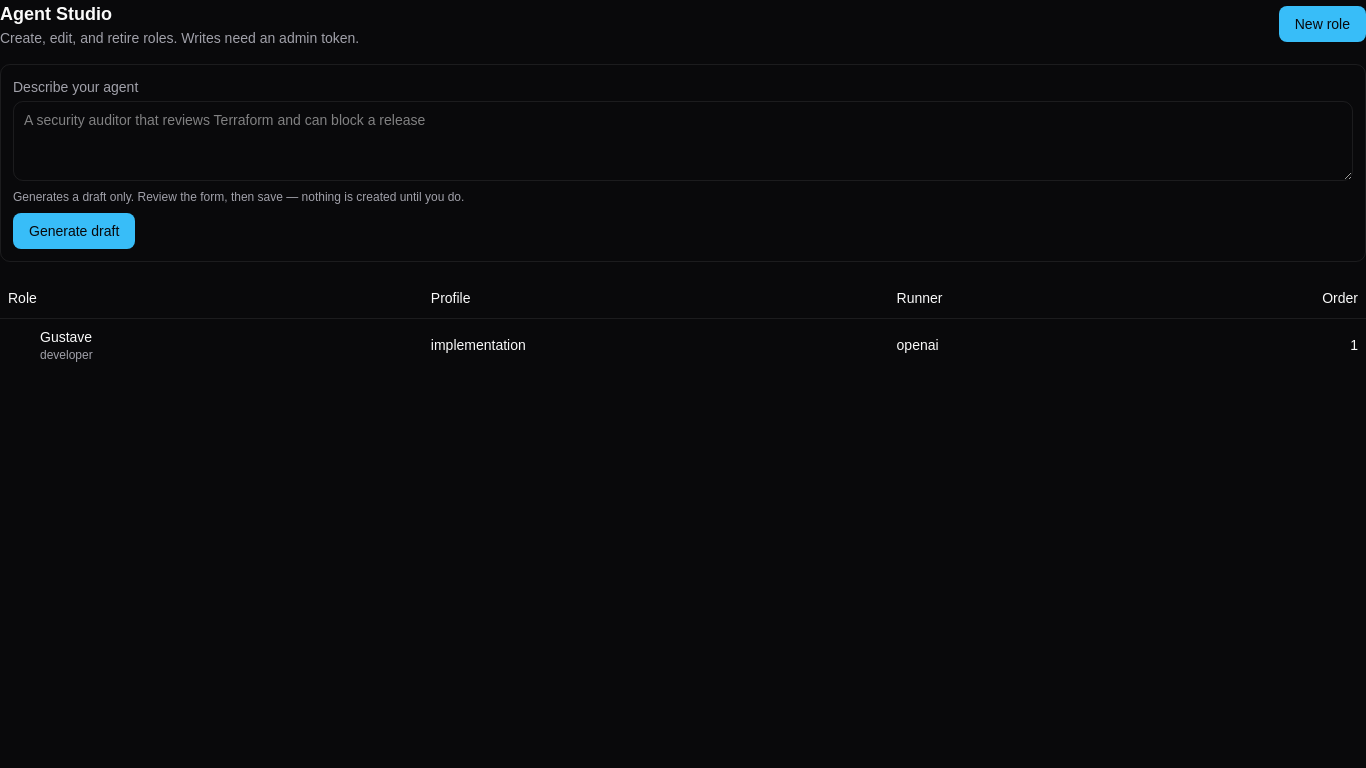
AgentStudioView › refuses to save an empty new role
This screenshot has width=1366, height=768.
Click the button with test id "studio-new": coordinates (1322, 24) x1=1279 y1=6 x2=1365 y2=42
(page scrolled)
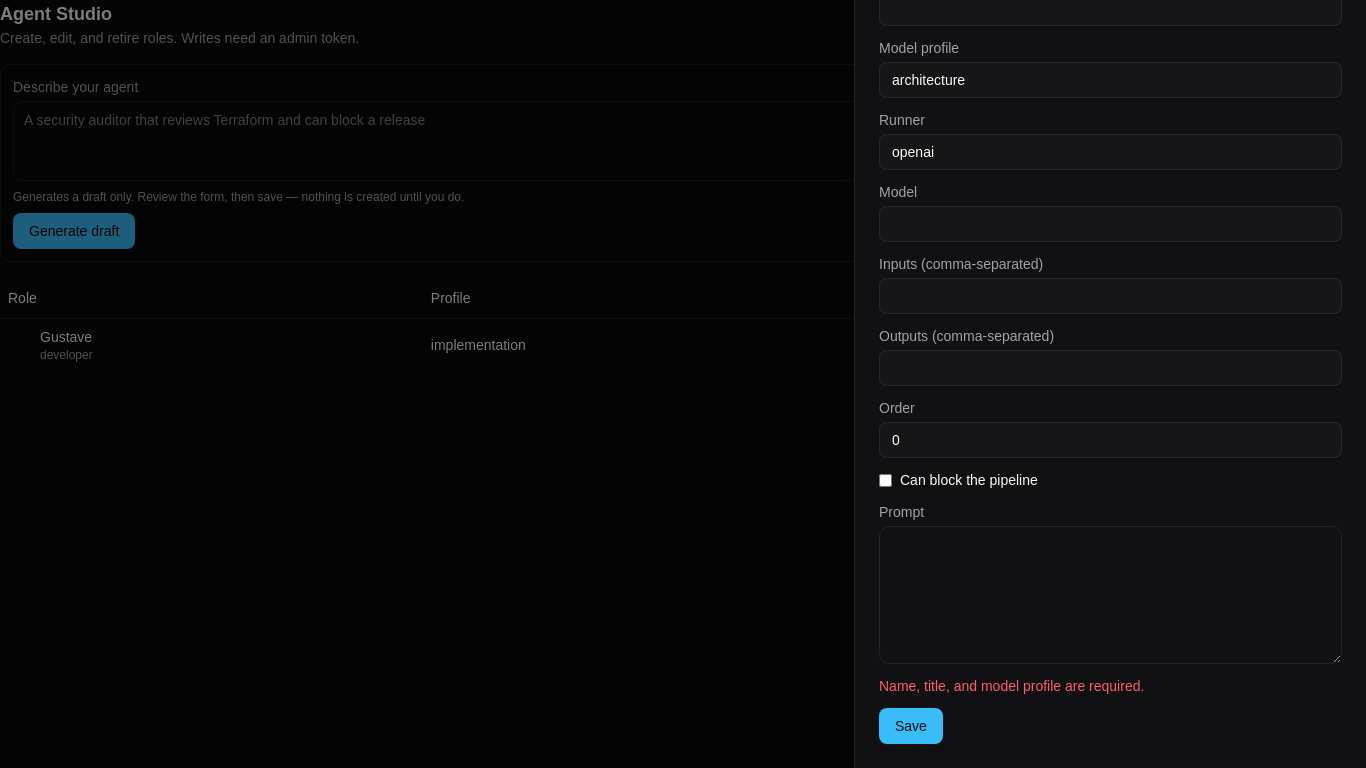
Check: the message with test id "studio-error" shows "required", box x1=879 y1=678 x2=1144 y2=694
